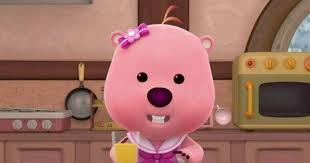Loopy: (95, 4, 217, 163)
